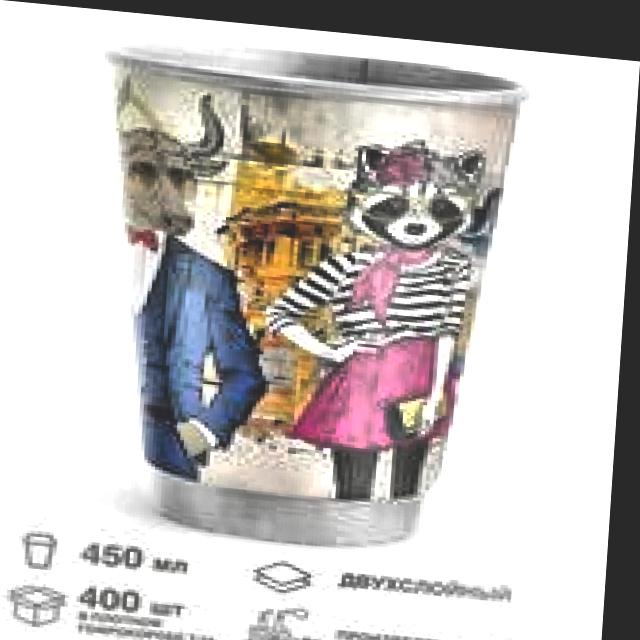Cup: (68, 28, 532, 557)
